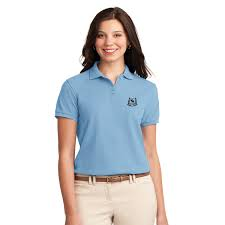S_polo shirt: (44, 61, 166, 175)
